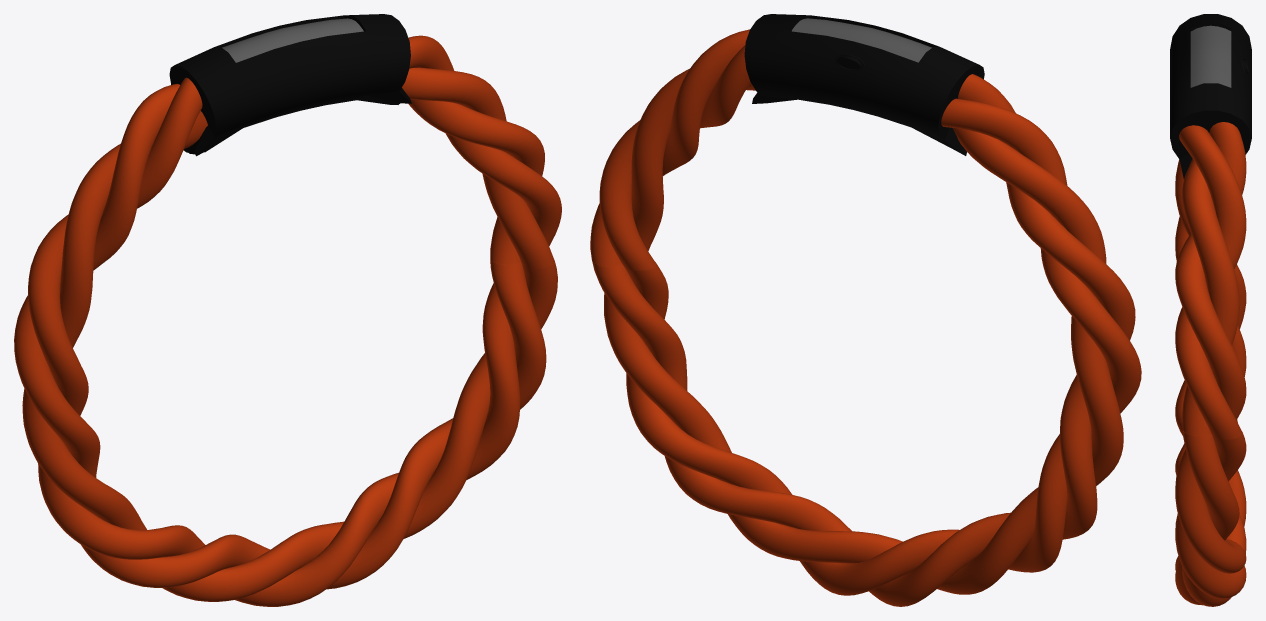
The model's file is ring.obj.
3 renders of one model, left to right at view 1: azimuth 30°, elevation 25°; view 2: azimuth 150°, elevation 25°; view 3: azimuth 270°, elevation 25°, orthographic. The views are drawn at different scales.
Parts seen in each view (by area): view 1: Cylinder002, Cylinder001, Cylinder003, Cylinder004, Plane001; view 2: Cylinder001, Cylinder002, Cylinder003, Cylinder004, Plane001; view 3: Cylinder002, Cylinder001, Cylinder003, Cylinder004, Plane001.
Boxes of the visible parts, x1,y1,x2,y2 form: Cylinder002: [28, 35, 561, 606]; Cylinder001: [14, 84, 546, 589]; Cylinder003: [22, 67, 557, 601]; Cylinder004: [169, 14, 411, 156]; Plane001: [222, 18, 363, 62]; Cylinder001: [599, 45, 1141, 595]; Cylinder002: [590, 29, 1135, 606]; Cylinder003: [604, 68, 1123, 594]; Cylinder004: [744, 14, 984, 155]; Plane001: [792, 18, 931, 62]; Cylinder002: [1175, 125, 1246, 598]; Cylinder001: [1175, 122, 1246, 605]; Cylinder003: [1182, 159, 1239, 606]; Cylinder004: [1170, 14, 1251, 178]; Plane001: [1190, 25, 1231, 87].
Bounding box in the file's own units: 106 × 106 × 14.7.
